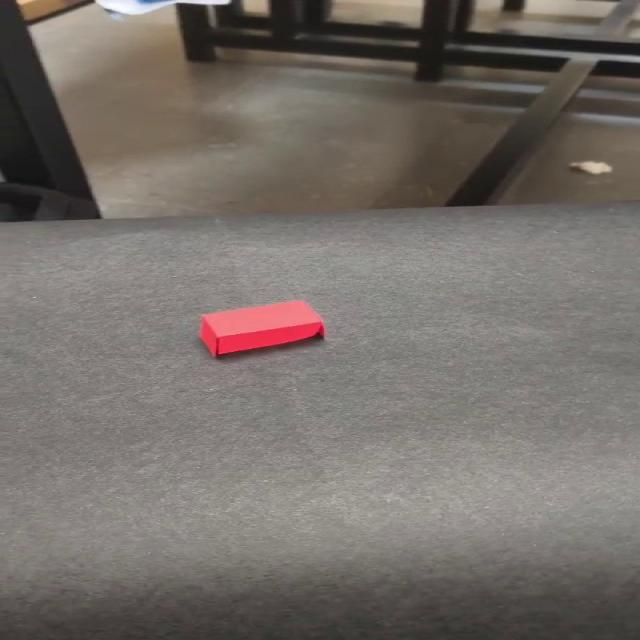red block: (198, 299, 326, 357)
